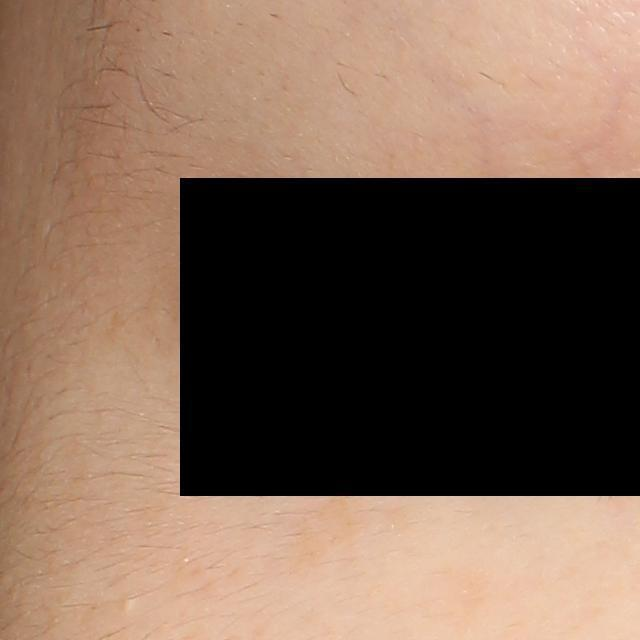comedo: (123, 596, 136, 613)
melasma: (275, 488, 367, 570)
